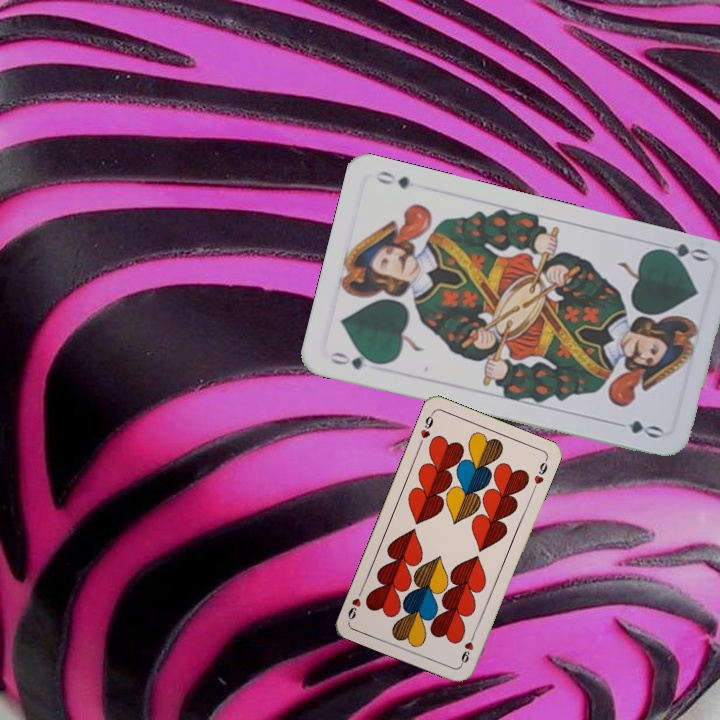GO: (650, 239, 711, 267), (326, 348, 384, 373)
H9: (415, 409, 436, 448), (457, 629, 478, 668)
